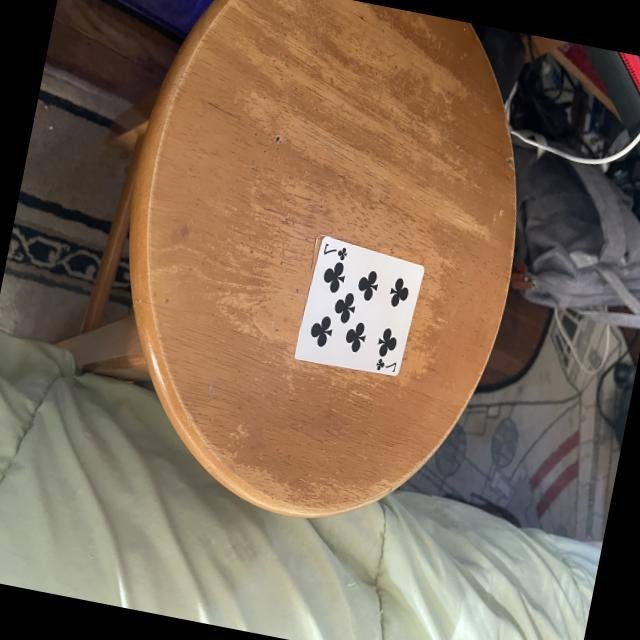7 of clubs: (294, 237, 423, 376)
